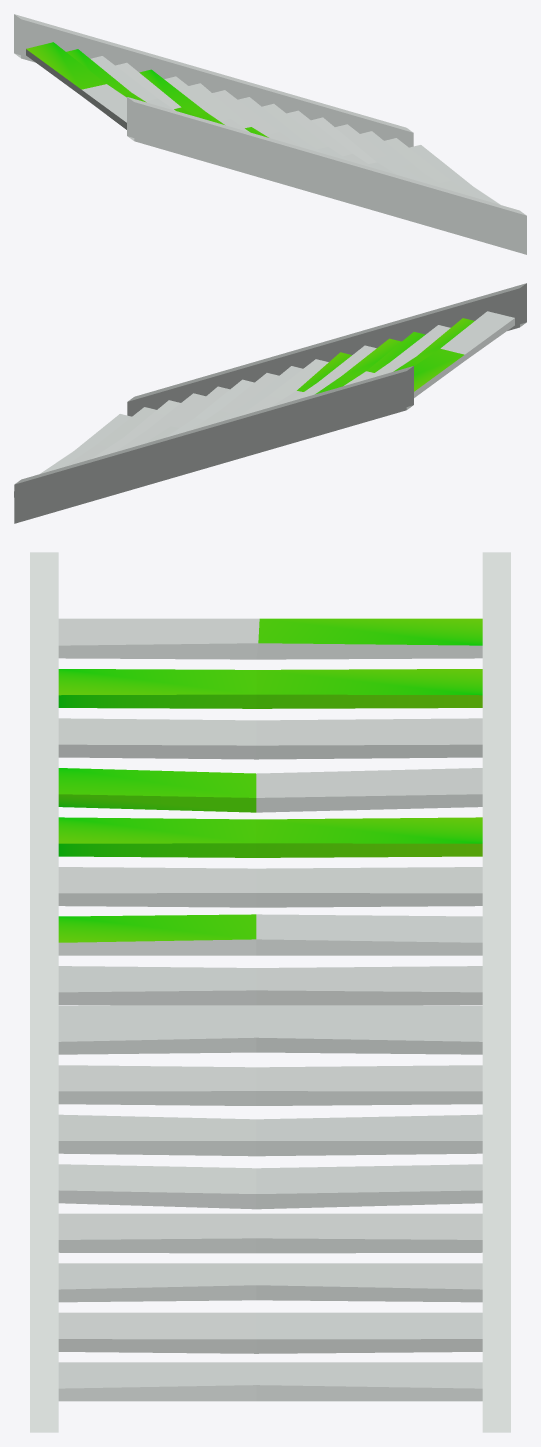
3 views of the same model, one above another, from view 1: azimuth 30°, elevation 25°; view 2: azimuth 150°, elevation 25°; view 3: azimuth 270°, elevation 25° (orthographic). The views are drawn at different scales.
Parts seen in each view (by area): view 1: G:\FFXIV-MapTools\exports\f1f1\bg\ffxiv\fst_f1\fld\f1f1\bgpa (×2); view 2: G:\FFXIV-MapTools\exports\f1f1\bg\ffxiv\fst_f1\fld\f1f1\bgpa (×2); view 3: G:\FFXIV-MapTools\exports\f1f1\bg\ffxiv\fst_f1\fld\f1f1\bgpa (×2).
Boxes of the visible parts, x1,y1,x2,y2 form: G:\FFXIV-MapTools\exports\f1f1\bg\ffxiv\fst_f1\fld\f1f1\bgpa (×2): [14, 14, 526, 254]; G:\FFXIV-MapTools\exports\f1f1\bg\ffxiv\fst_f1\fld\f1f1\bgpa (×2): [14, 283, 526, 523]; G:\FFXIV-MapTools\exports\f1f1\bg\ffxiv\fst_f1\fld\f1f1\bgpa (×2): [30, 552, 510, 1432].
Size of the model in its own units: 8.16 by 4.85 by 4.25.
